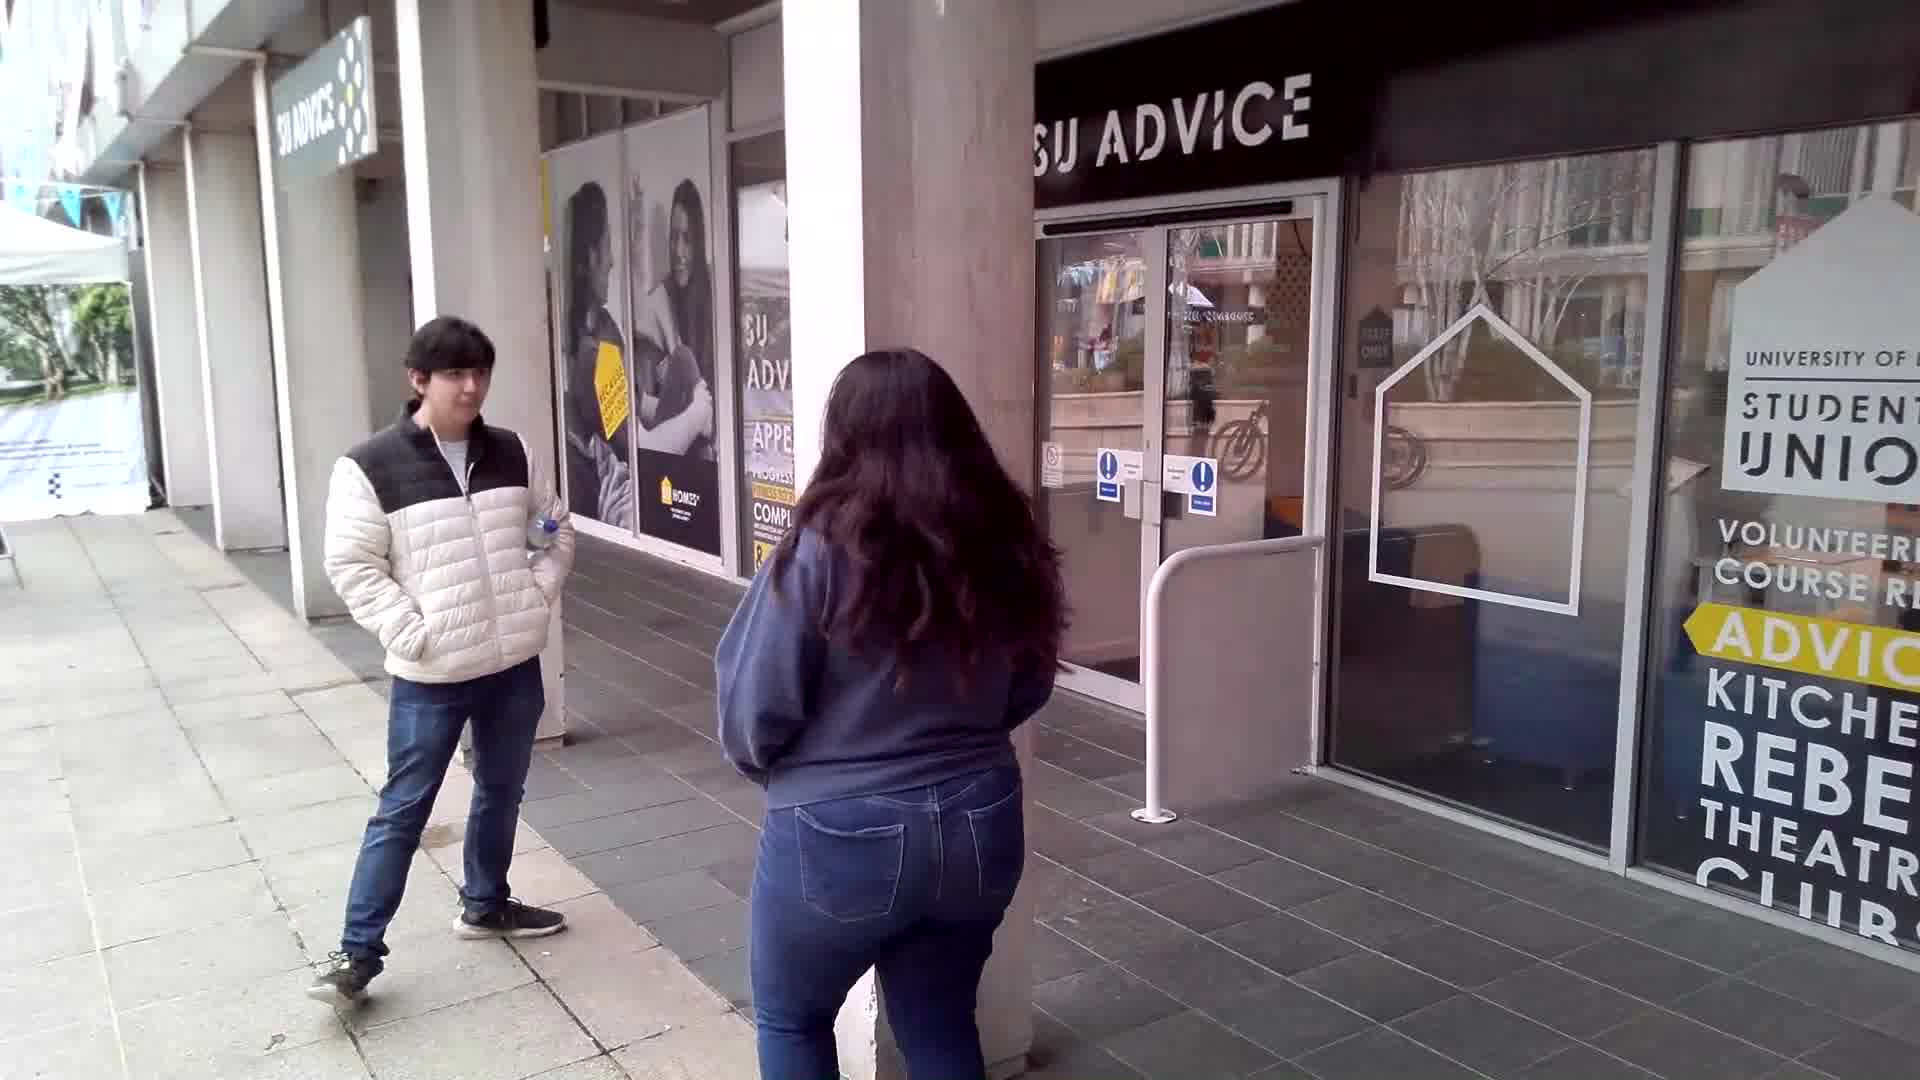Person: (726, 343, 1033, 1080), (340, 311, 557, 991)
